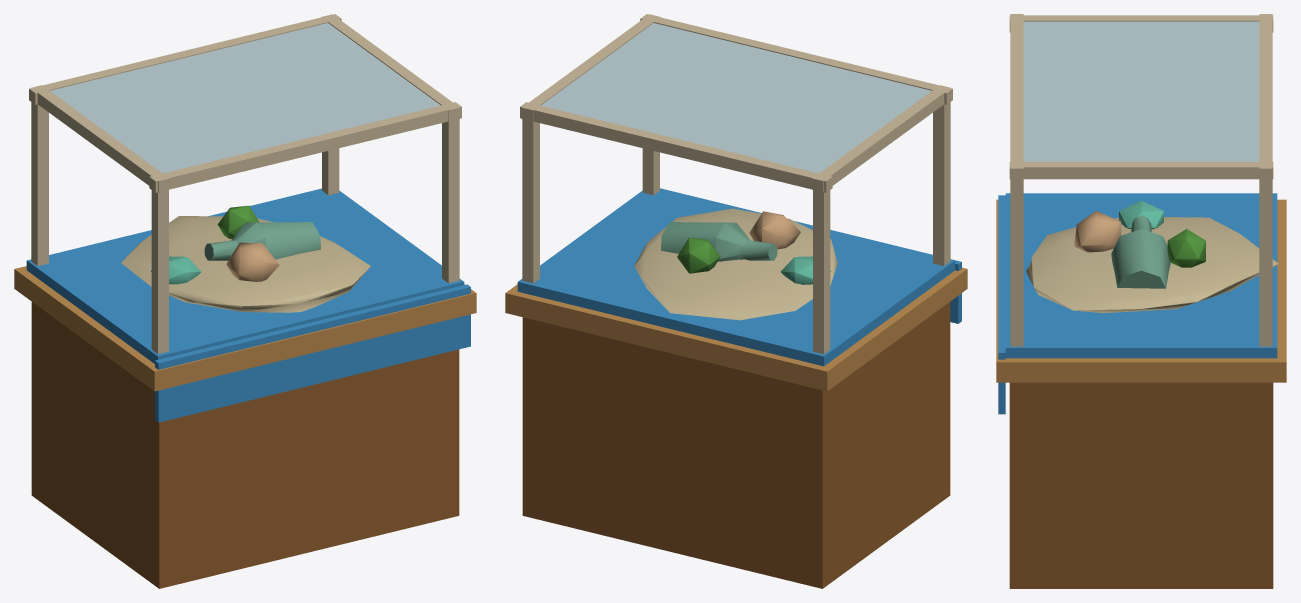
The model's file is pond_treasures_display.glb.
3 renders of one model, left to right at view 1: azimuth 30°, elevation 25°; view 2: azimuth 150°, elevation 25°; view 3: azimuth 270°, elevation 25°, orthographic. The views are drawn at different scales.
Visible parts, largest first — view 1: decor-pond_treasures_display; view 2: decor-pond_treasures_display; view 3: decor-pond_treasures_display.
Boxes of the visible parts, x1,y1,x2,y2 form: decor-pond_treasures_display: [14, 14, 476, 588]; decor-pond_treasures_display: [505, 14, 967, 588]; decor-pond_treasures_display: [996, 14, 1286, 588].
Size of the model in its own units: 1.02 by 1.24 by 0.77.
